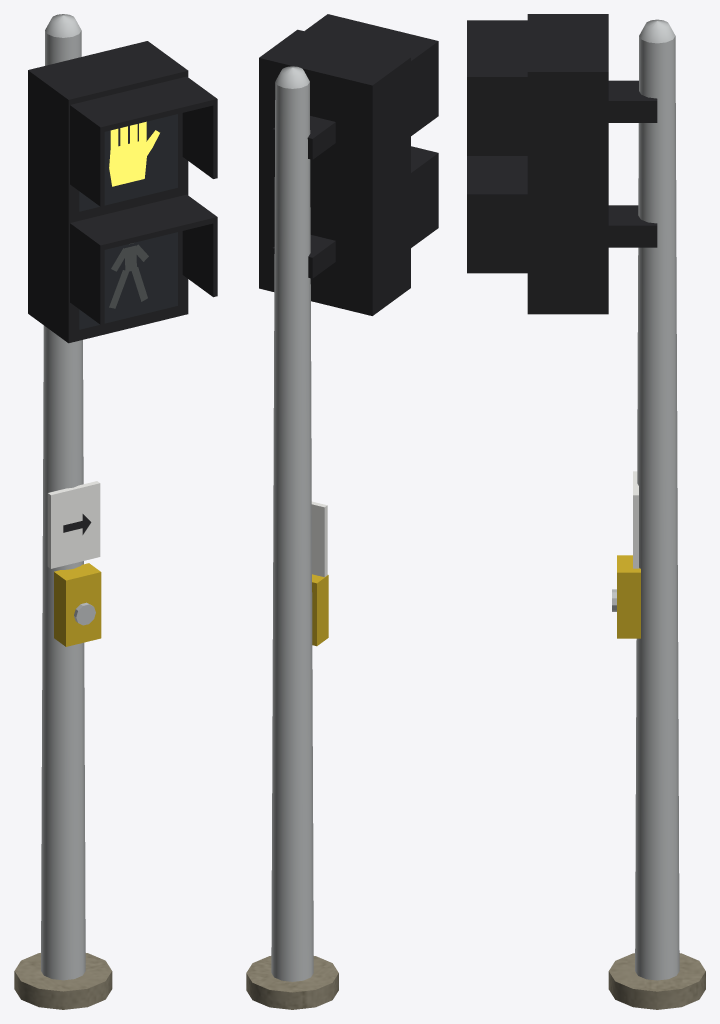
The model's file is ped_signal.glb.
3 renders of one model, left to right at view 1: azimuth 30°, elevation 25°; view 2: azimuth 150°, elevation 25°; view 3: azimuth 270°, elevation 25°, orthographic. The views are drawn at different scales.
Visible parts, largest first — view 1: ped_signal_body, DontWalk_0, Walk_0; view 2: ped_signal_body; view 3: ped_signal_body.
Part boxes in pixels (left/top/right/bottom): ped_signal_body: left=14, top=14, right=217, bottom=1009; DontWalk_0: left=109, top=121, right=159, bottom=186; Walk_0: left=109, top=243, right=148, bottom=308; ped_signal_body: left=246, top=14, right=438, bottom=1009; ped_signal_body: left=467, top=14, right=705, bottom=1009.
Size of the model in its own units: 0.017 by 0.132 by 0.0295.
Materials: 4 (2 with a texture image).
